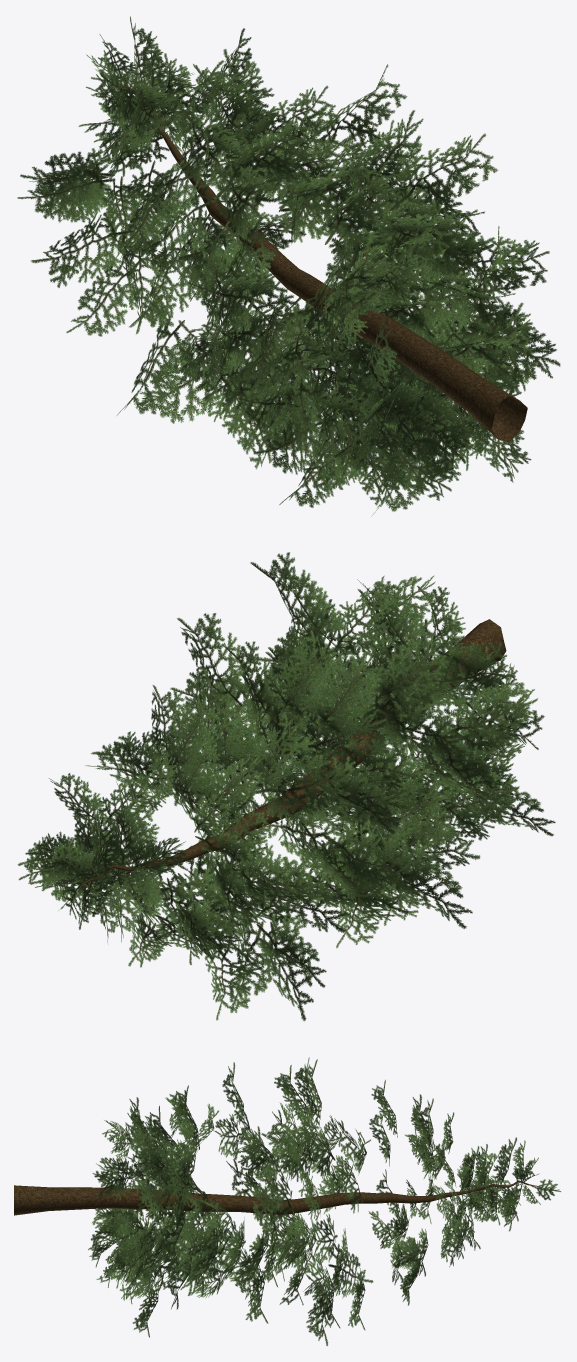
Rendered from fir_lod2.glb.
3 renders of one model, top to bottom at view 1: azimuth 30°, elevation 25°; view 2: azimuth 150°, elevation 25°; view 3: azimuth 270°, elevation 25°, orthographic. The views are drawn at different scales.
Parts seen in each view (by area): view 1: Christmas tree_2_LOD2; view 2: Christmas tree_2_LOD2; view 3: Christmas tree_2_LOD2.
Boxes of the visible parts, bbox=[...] form: Christmas tree_2_LOD2: bbox=[17, 16, 560, 516]; Christmas tree_2_LOD2: bbox=[17, 552, 555, 1021]; Christmas tree_2_LOD2: bbox=[14, 1057, 561, 1345].
Size of the model in its own units: 4.95 by 4.88 by 9.26.
Materials: 2 (2 with a texture image).
